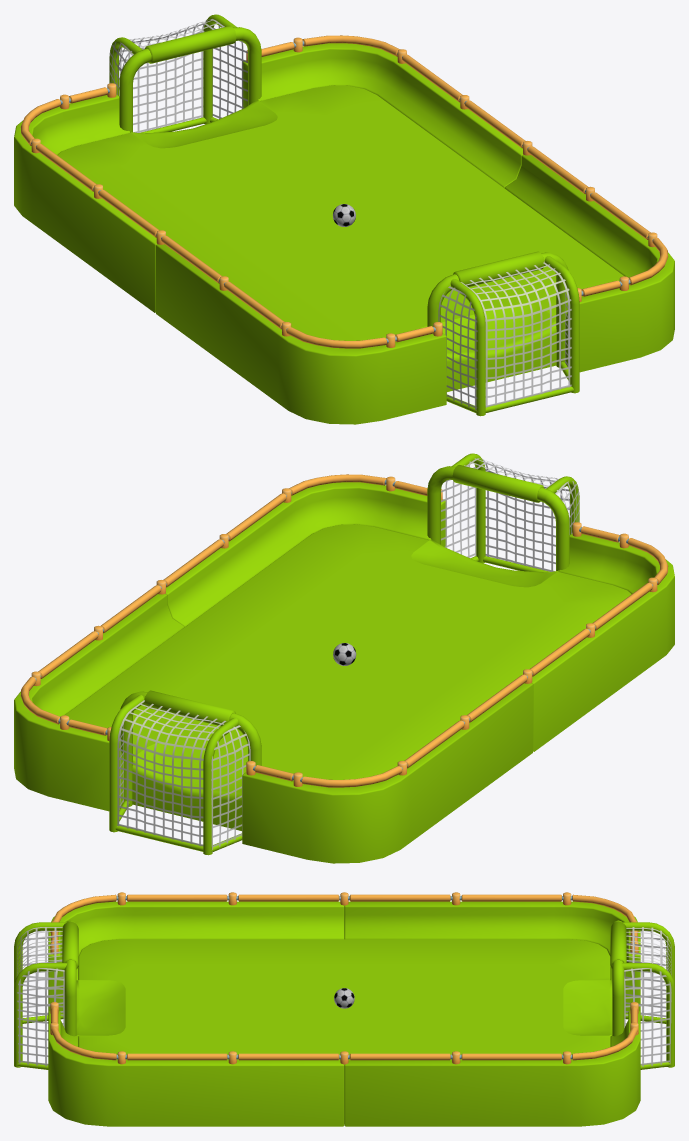
Rendered from soccerField.glb.
3 renders of one model, top to bottom at view 1: azimuth 30°, elevation 25°; view 2: azimuth 150°, elevation 25°; view 3: azimuth 270°, elevation 25°, orthographic. The views are drawn at different scales.
Visible parts, largest first — view 1: SoccerField, SoccerGates, SoccerFence; view 2: SoccerField, SoccerGates, SoccerFence; view 3: SoccerField, SoccerFence, SoccerGates.
Part boxes in pixels (x1=…): SoccerField: x1=14, y1=14, x2=674, y2=424; SoccerGates: x1=109, y1=19, x2=571, y2=412; SoccerFence: x1=20, y1=35, x2=668, y2=348; SoccerField: x1=14, y1=453, x2=674, y2=863; SoccerGates: x1=117, y1=458, x2=579, y2=852; SoccerFence: x1=20, y1=474, x2=668, y2=787; SoccerField: x1=14, y1=901, x2=674, y2=1126; SoccerFence: x1=50, y1=892, x2=638, y2=1064; SoccerGates: x1=17, y1=927, x2=671, y2=1068.
Size of the model in its own units: 19.56 by 5.88 by 33.29.
Materials: 4 (3 with a texture image).
